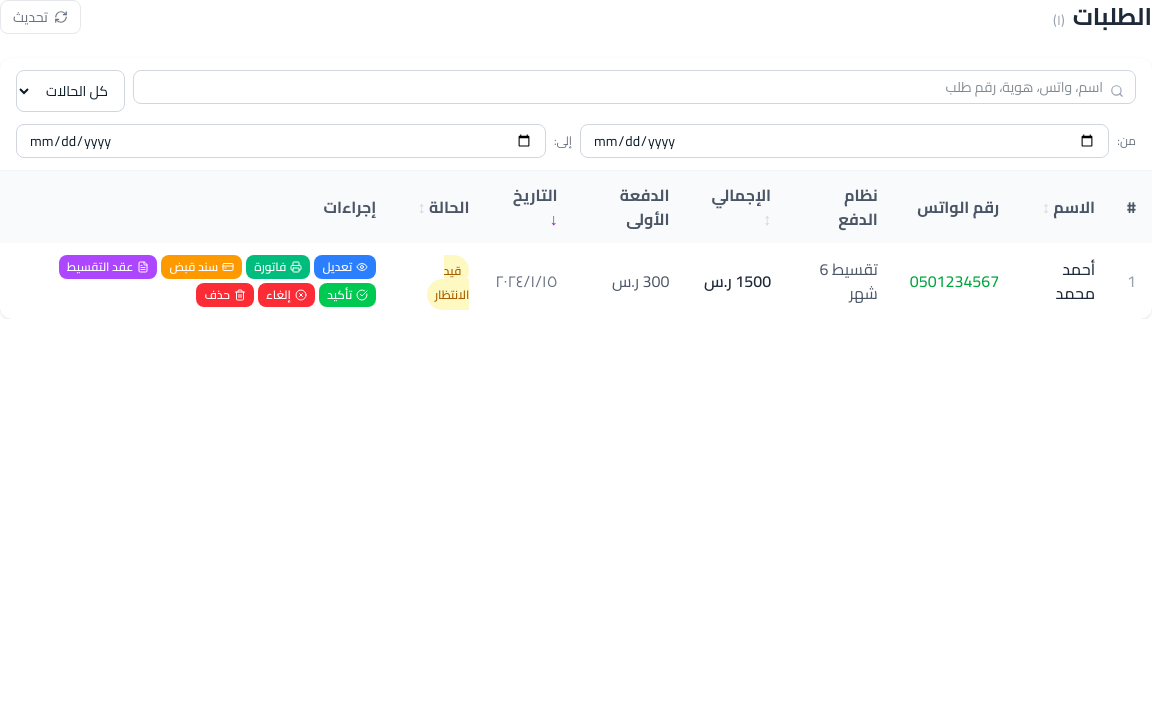
Test case: OrdersPage — modal الحذف › زر نعم احذف يُعطَّل أثناء الـ loading
Expected: the text "أحمد محمد" is shown, [1015,243,1111,319]
Click the button "حذف" at (225, 295), box [196,283,254,307]
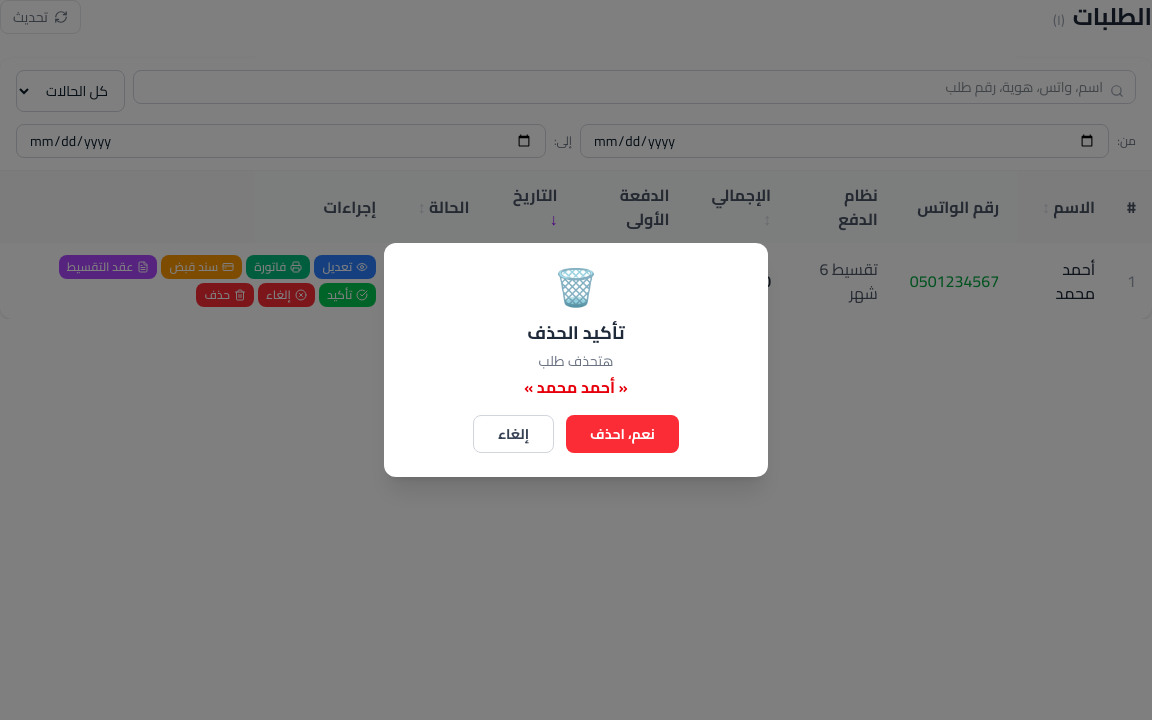
Click the button "نعم، احذف" at (622, 434), box [566,415,679,453]
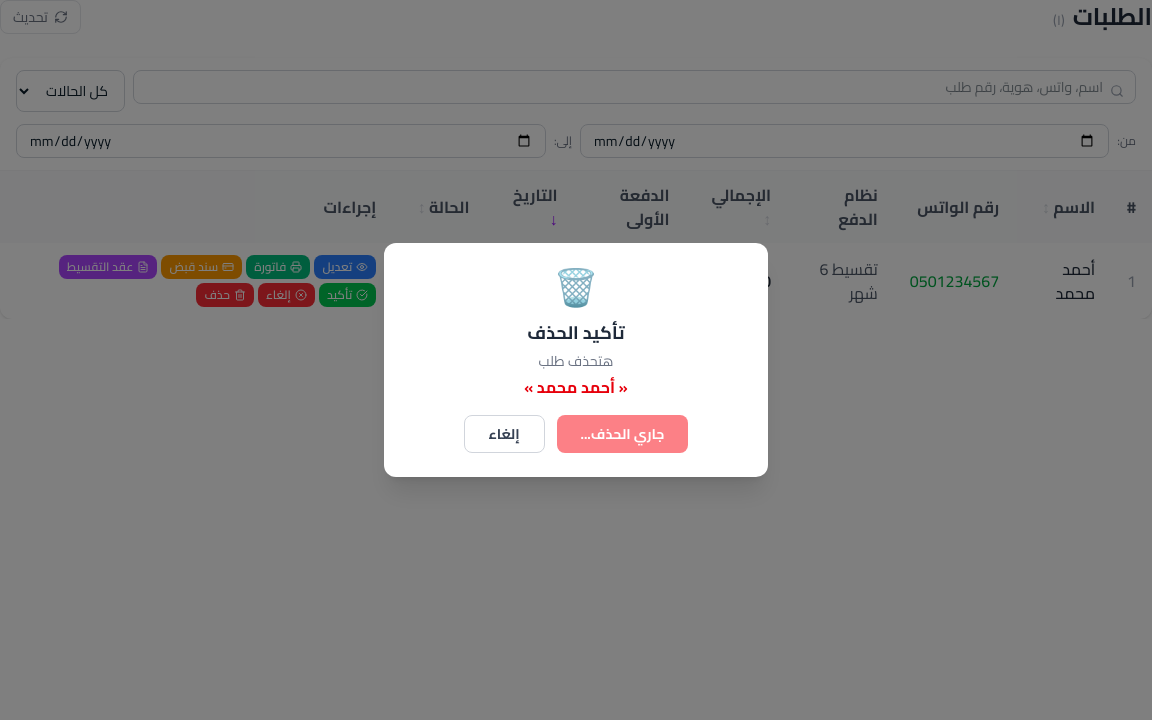
Expected: the button "نعم، احذف" is disabled, [557,415,688,453]
